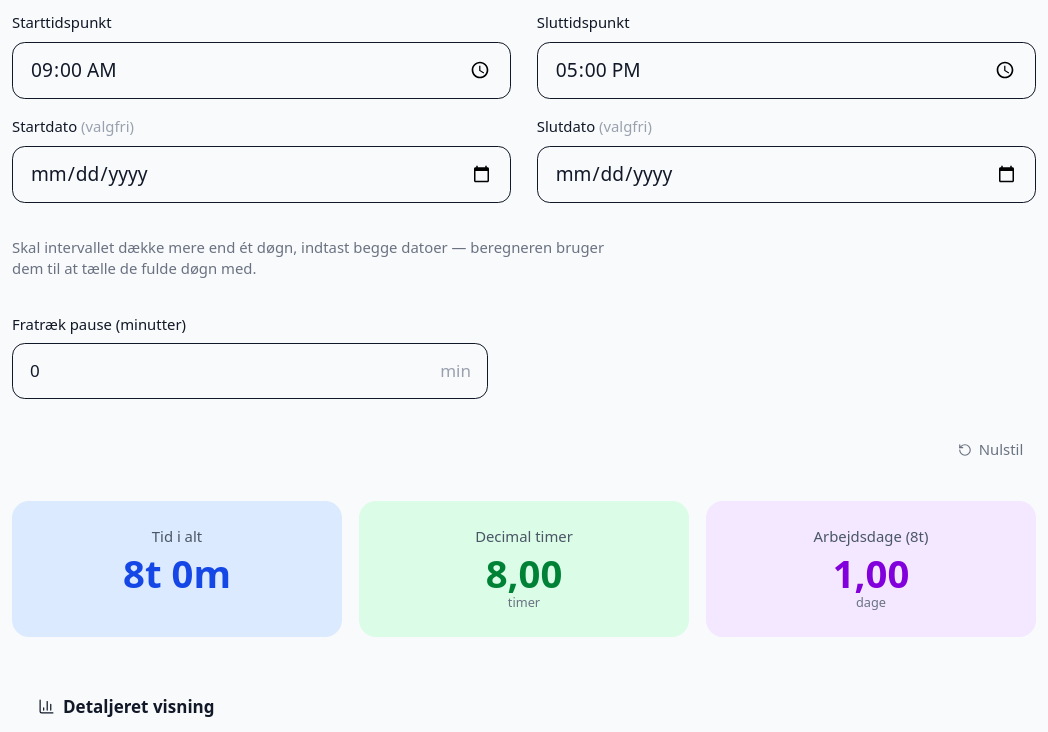
decimal-komma — procenter i dansk og svensk tekst › /tidsberegner (decimaltimer, arbejdsdage og hele døgn) › heltallet vises med to decimaler, som før
The image size is (1048, 732).
Step 1. Replace the text in the time field with id "tid-start-tidspunkt" with "08:00" → {"x": 262, "y": 70}, box left=12, top=42, right=511, bottom=99
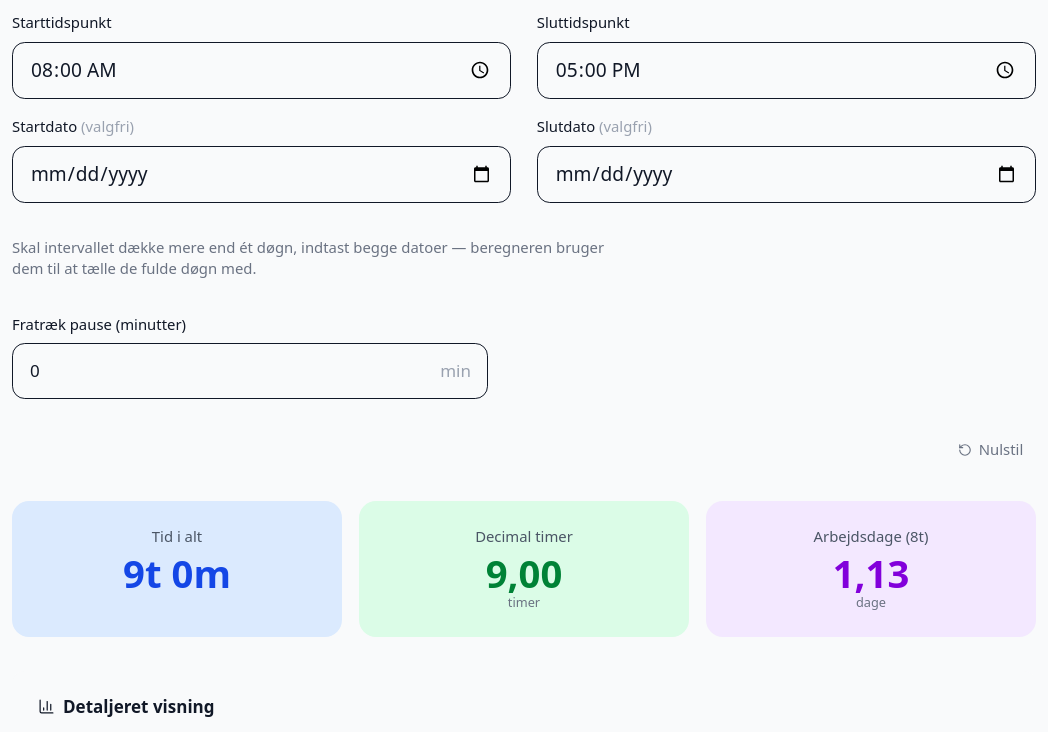
Step 2. Replace the text in the time field with id "tid-slut-tidspunkt" with "16:00" → {"x": 786, "y": 70}, box left=537, top=42, right=1036, bottom=99
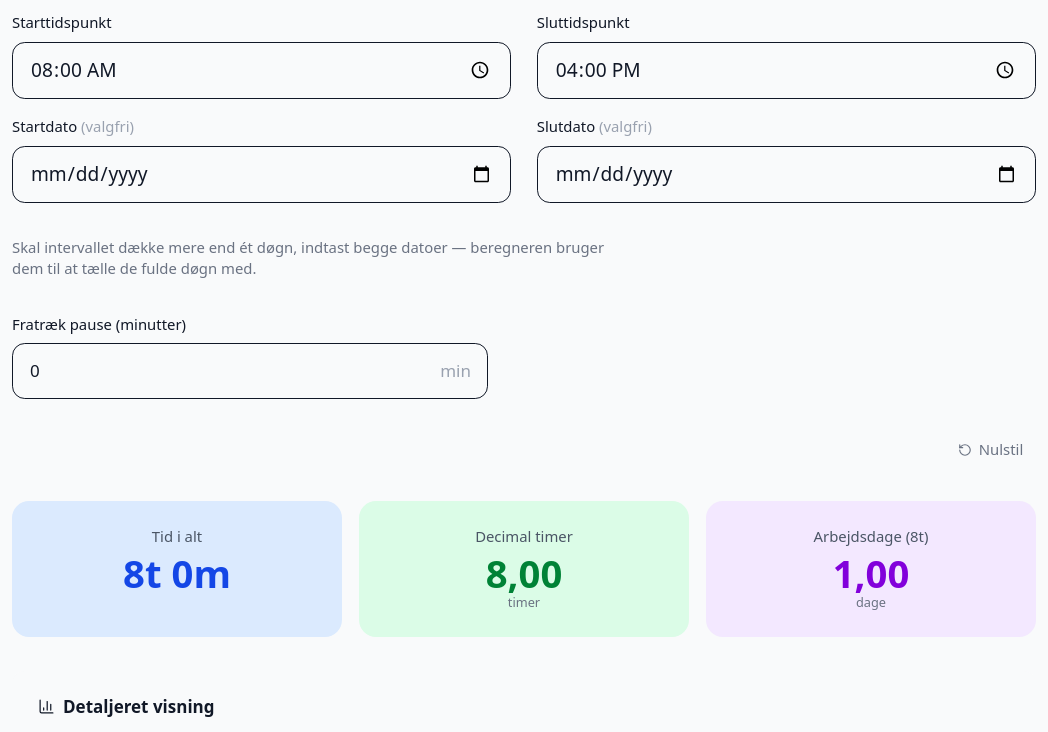
Expected: the text "8,00" is shown, left=486, top=547, right=562, bottom=599
